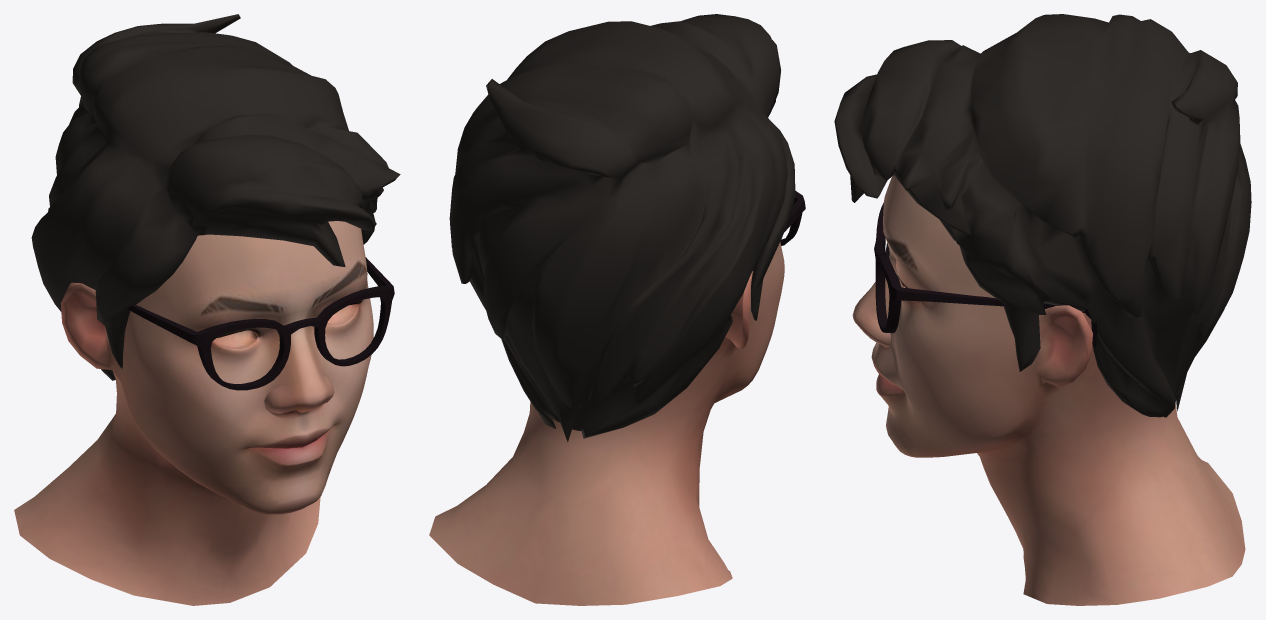
File: profesor_cabeza.glb
3 views of the same model, side by side, from view 1: azimuth 30°, elevation 25°; view 2: azimuth 150°, elevation 25°; view 3: azimuth 270°, elevation 25° (orthographic).
Visible parts, largest first — view 1: Object_37; view 2: Object_37; view 3: Object_37.
Part boxes in pixels (left/top/right/bottom): Object_37: left=14, top=14, right=400, bottom=605; Object_37: left=429, top=14, right=805, bottom=605; Object_37: left=834, top=14, right=1251, bottom=605.
Bounding box in the file's own units: 0.0536 × 0.0939 × 0.0656.
3 materials, 3 textured.
